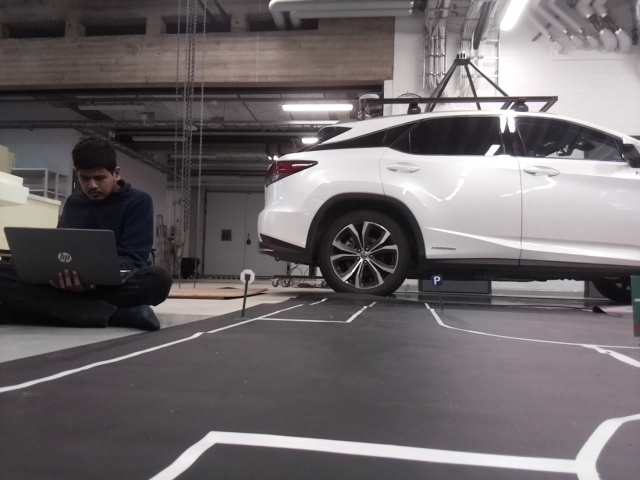Parking: (431, 275, 441, 286)
